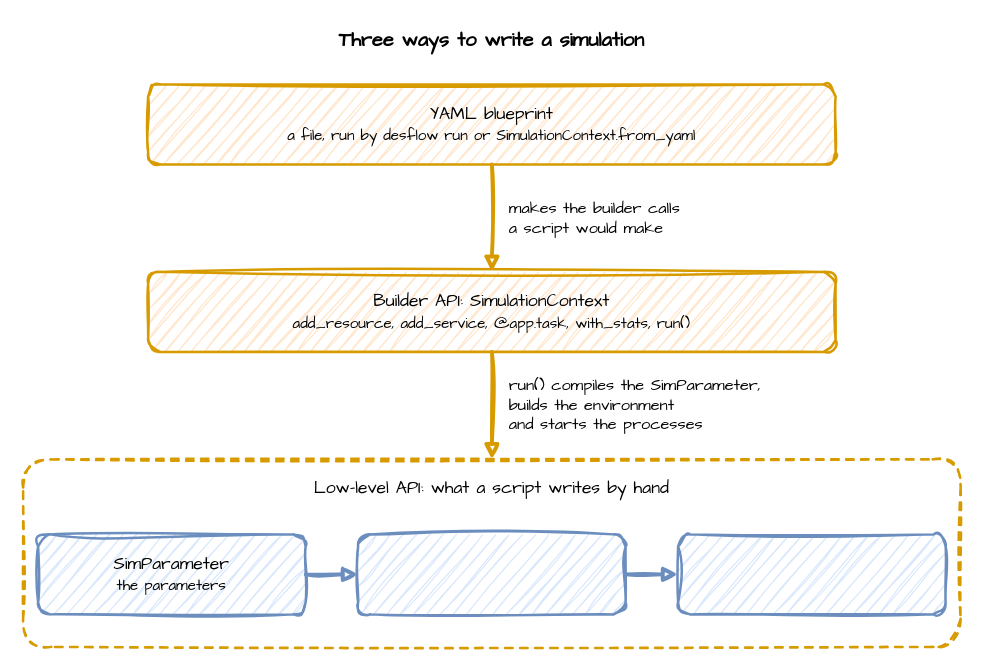
This 983x669 diagram has some shape labels left out. Here are the shapes that lost their labels. From the top down, the centre of each, then its label:
point 491,573: DynamicRealtimeEnvironment the registry, clock and sinks
point 811,573: SimPy processes arrivals and tasks
